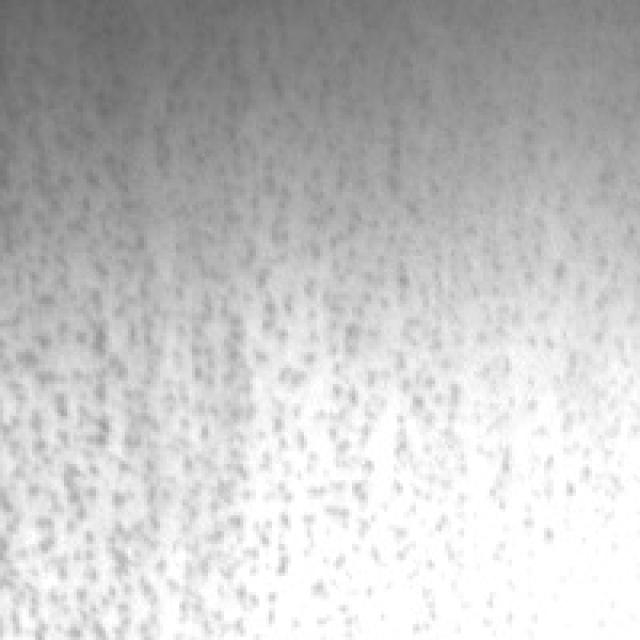pitted_surface: (9, 22, 604, 630)
